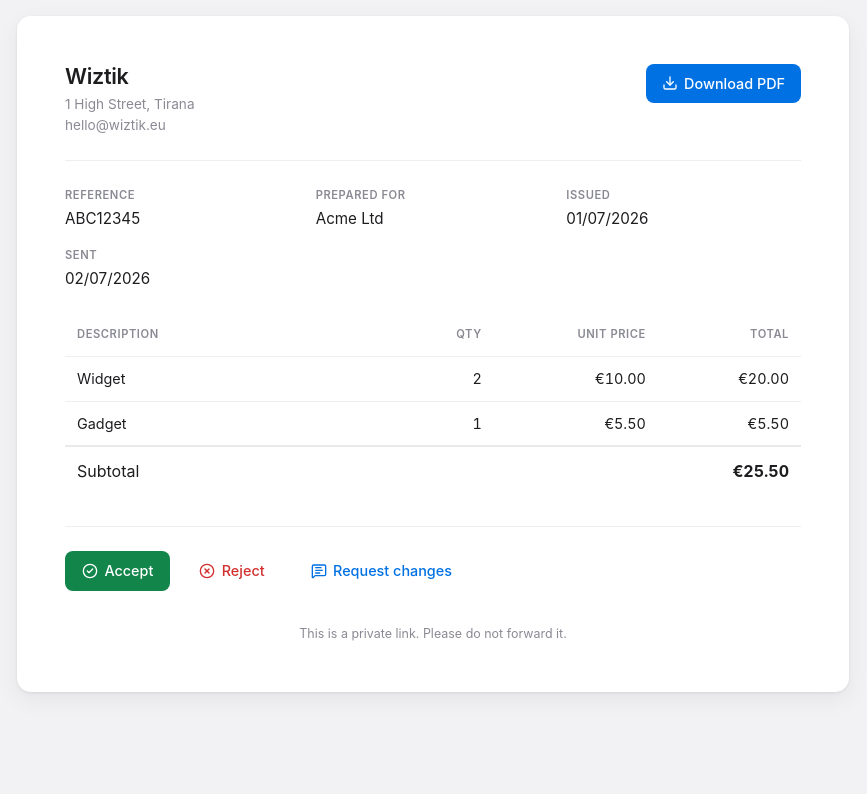
Scenario: PublicQuotationPage › responding to a Sent quotation › requires a note before Re-quote can be sent, and sends it to the reject route
Expected: the heading "Wiztik" is shown, [65,63,128,89]
Click the button "Request changes" at (381, 571), box [294,551,469,591]
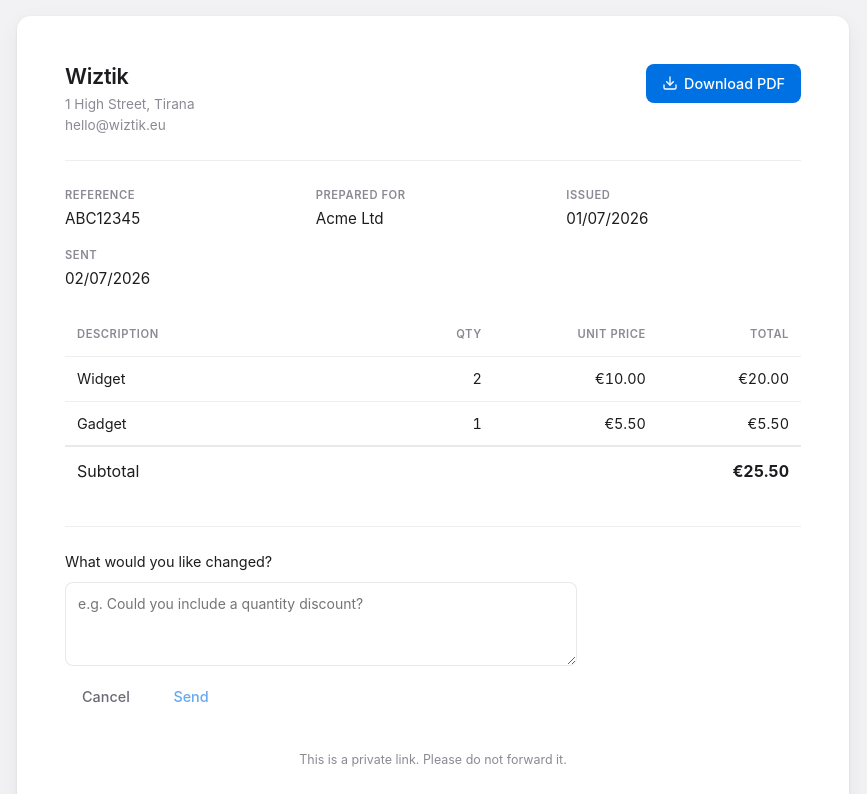
Expected: the button "Send" is disabled, [156,677,226,717]
Type "Please add a bulk discount" into the text box with placeholder "e.g. Could you include a quantity discount?" at (321, 624), box [65,582,577,666]
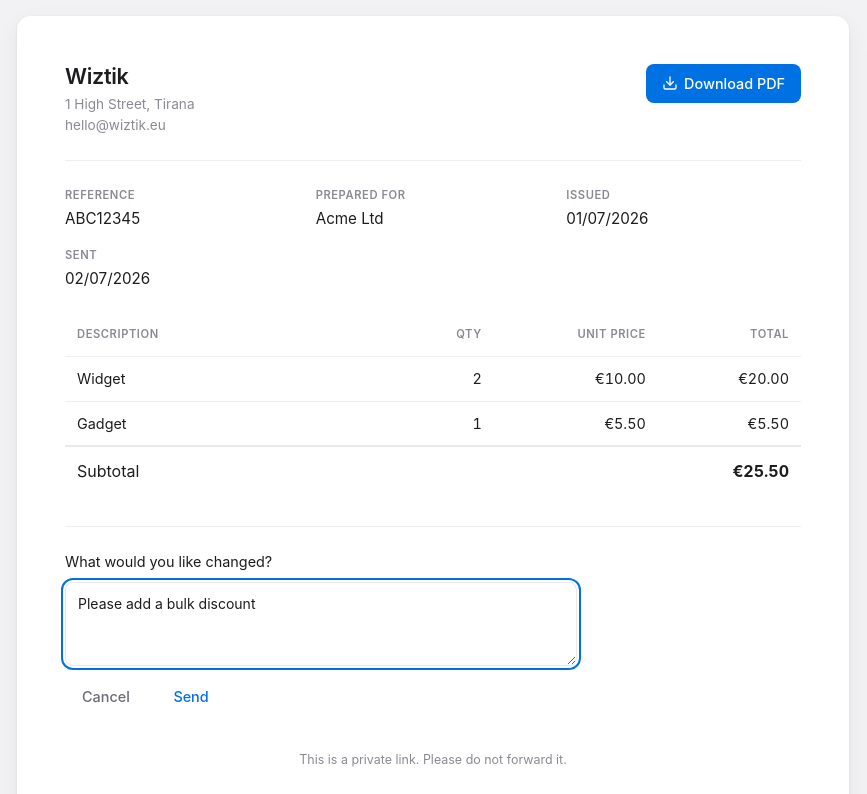
Expected: the button "Send" is enabled
Click the button "Send" at (191, 697), box [156,677,226,717]
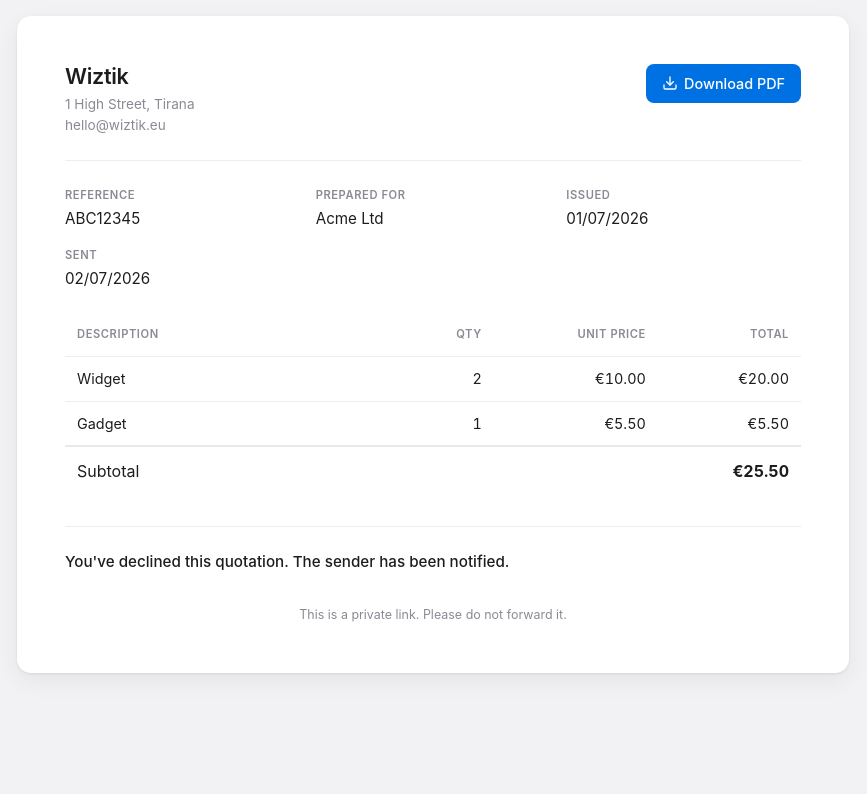
Expected: the text "declined this quotation" is shown, [65,552,509,571]
